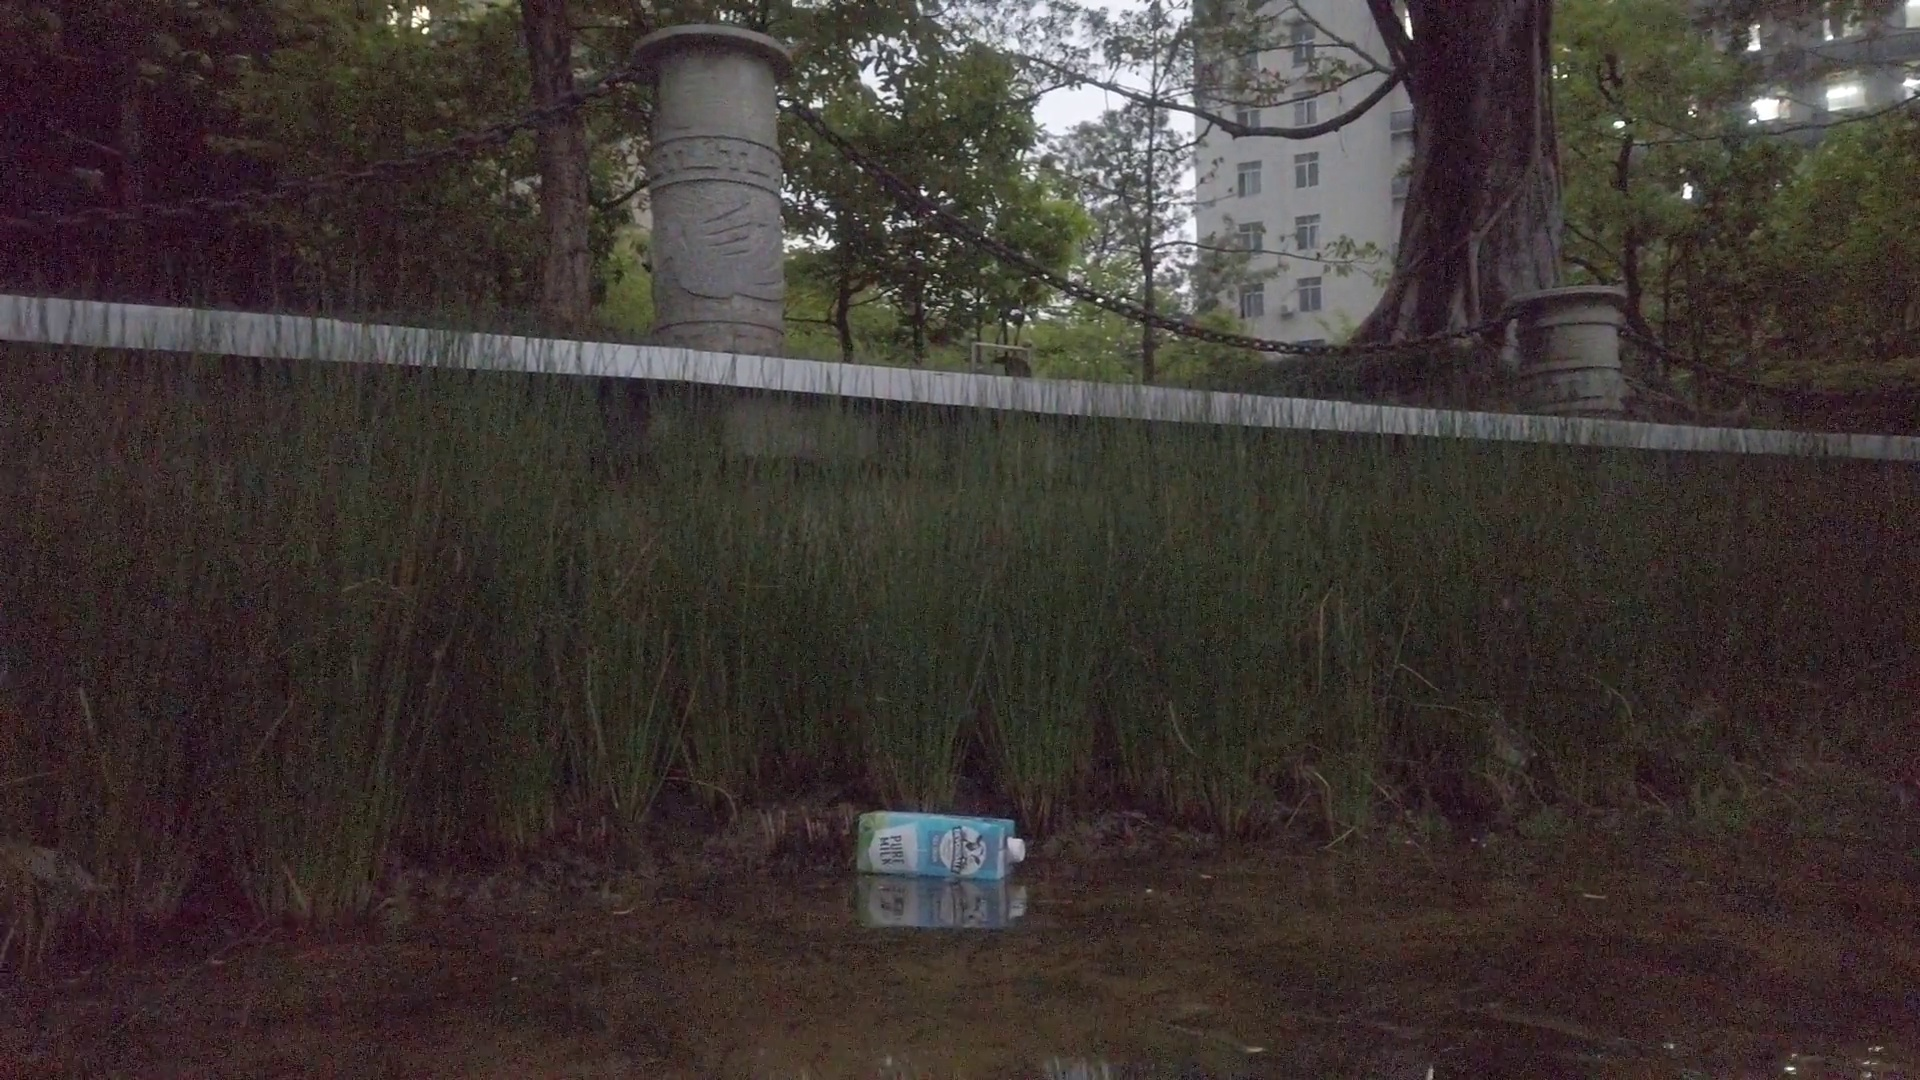carton: (856, 807, 1025, 882)
